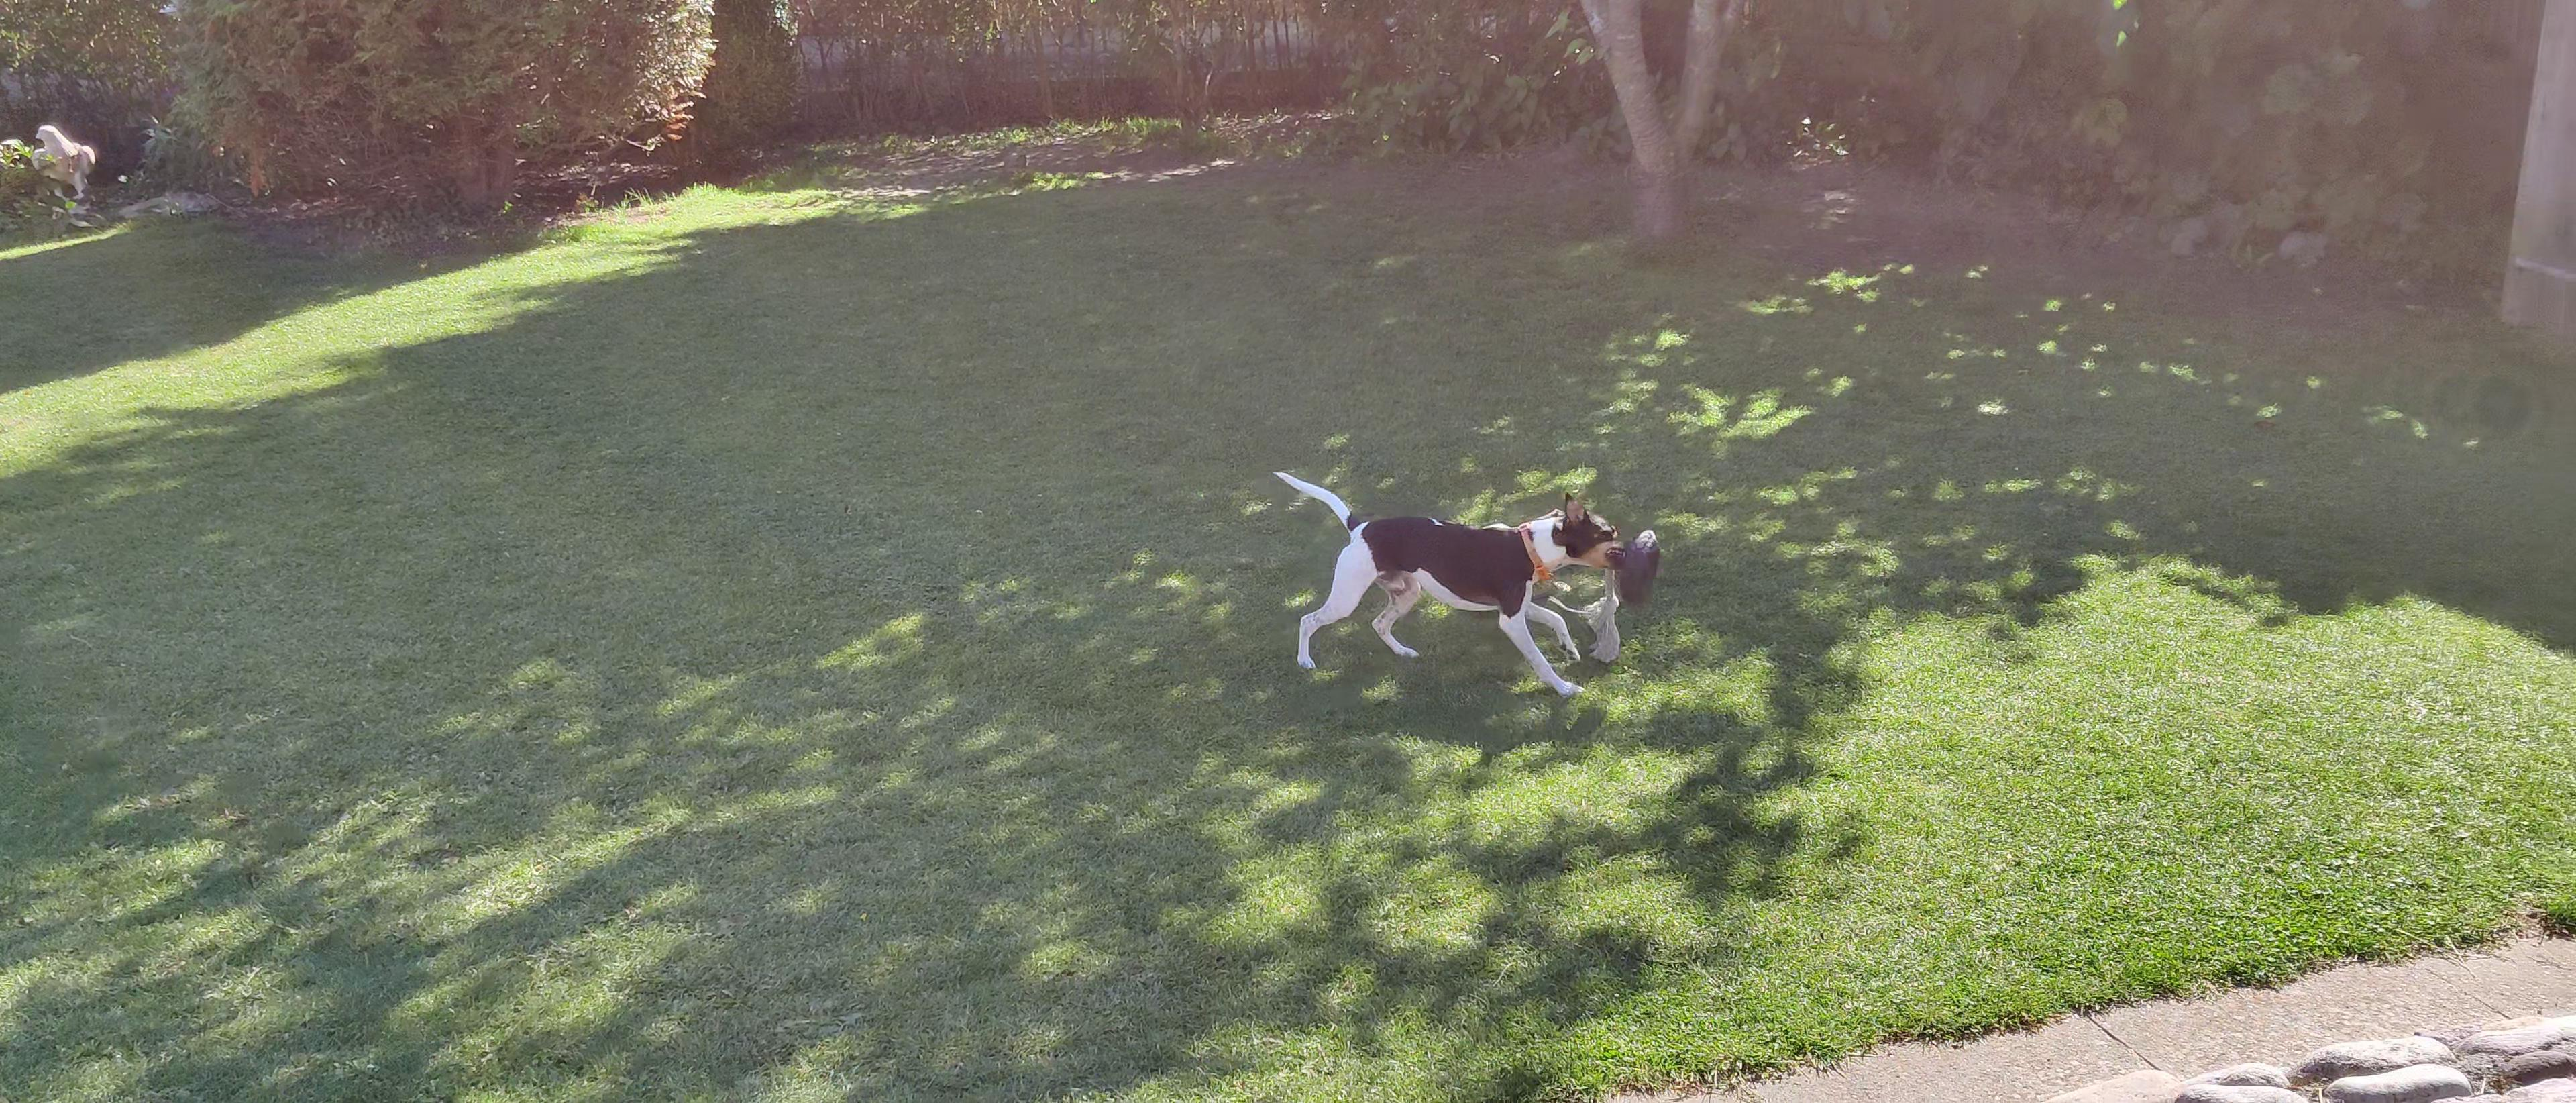Dog: (1252, 445, 1636, 708)
